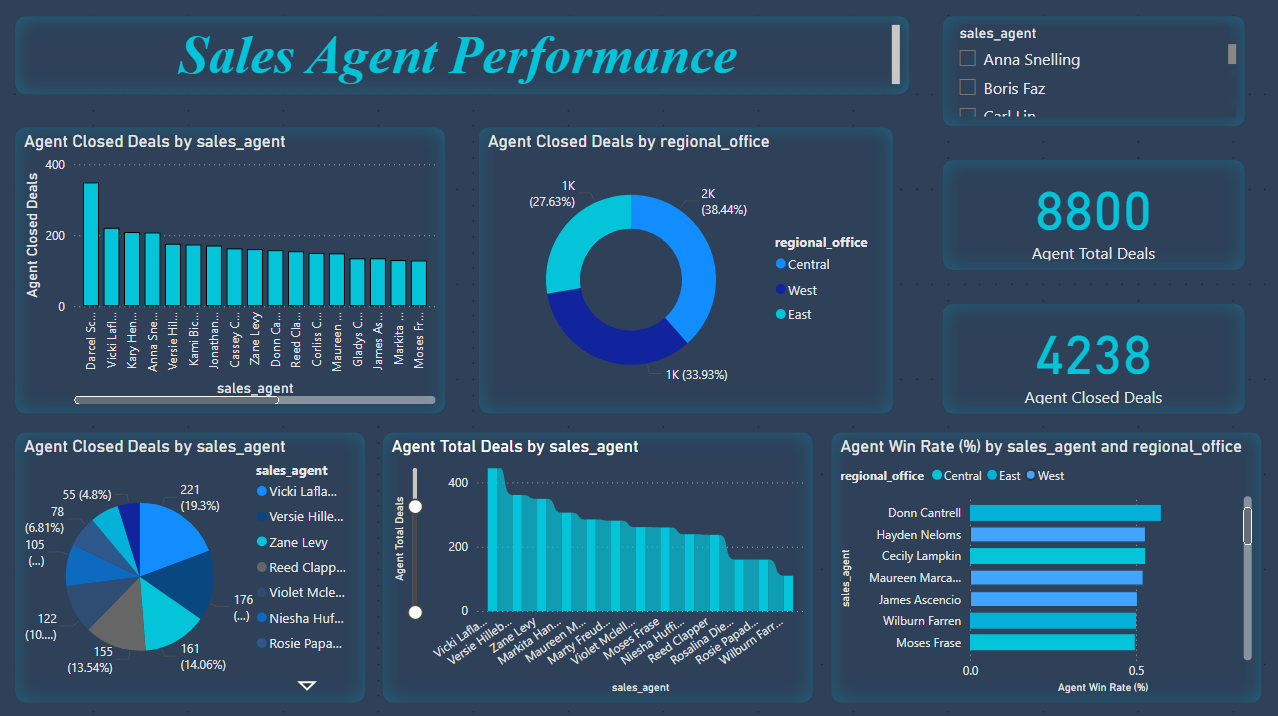

Layout of this report page (visuals, bound fields, positions):
{"tool":"powerbi","page":{"name":"Page 2","canvas":[1280,720],"ordinal":1},"visuals":[{"type":"textbox","box":[16,16,896,80],"z":0},{"type":"clusteredColumnChart","fields":{"Category":["sales_teams.sales_agent"],"Y":["sales_teams.Agent Closed Deals"]},"box":[16,128,432,288],"z":1000},{"type":"pieChart","fields":{"Category":["sales_teams.sales_agent"],"Y":["sales_teams.Agent Closed Deals"]},"box":[16,432,352,272],"z":2000},{"type":"ribbonChart","fields":{"Category":["sales_teams.sales_agent"],"Y":["sales_teams.Agent Total Deals"]},"box":[384,432,432,272],"z":3000},{"type":"barChart","fields":{"Category":["sales_teams.sales_agent"],"Y":["sales_teams.Agent Win Rate (%)"],"Series":["sales_teams.regional_office"]},"box":[832,432,432,272],"z":4000},{"type":"donutChart","fields":{"Category":["sales_teams.regional_office"],"Y":["sales_teams.Agent Closed Deals"]},"box":[480,128,416,288],"z":5000},{"type":"card","fields":{"Values":["sales_teams.Agent Total Deals"]},"box":[944,160,304,112],"z":6000},{"type":"card","fields":{"Values":["sales_teams.Agent Closed Deals"]},"box":[944,304,304,112],"z":7000},{"type":"slicer","fields":{"Values":["sales_teams.sales_agent"]},"box":[944,16,304,112],"z":8000}]}

Visuals, with their boxes in screenshot pixels (x1, y1, x2, y2), scaled from the page's 1280x720 canvas onto the 1278x716 screenshot:
textbox: [left=16, top=16, right=911, bottom=95]
clusteredColumnChart - sales_teams.sales_agent x sales_teams.Agent Closed Deals: [left=16, top=127, right=447, bottom=414]
pieChart - sales_teams.sales_agent x sales_teams.Agent Closed Deals: [left=16, top=430, right=367, bottom=700]
ribbonChart - sales_teams.sales_agent x sales_teams.Agent Total Deals: [left=383, top=430, right=815, bottom=700]
barChart - sales_teams.sales_agent x sales_teams.Agent Win Rate (%): [left=831, top=430, right=1262, bottom=700]
donutChart - sales_teams.regional_office x sales_teams.Agent Closed Deals: [left=479, top=127, right=895, bottom=414]
card - sales_teams.Agent Total Deals: [left=943, top=159, right=1246, bottom=270]
card - sales_teams.Agent Closed Deals: [left=943, top=302, right=1246, bottom=414]
slicer - sales_teams.sales_agent: [left=943, top=16, right=1246, bottom=127]
